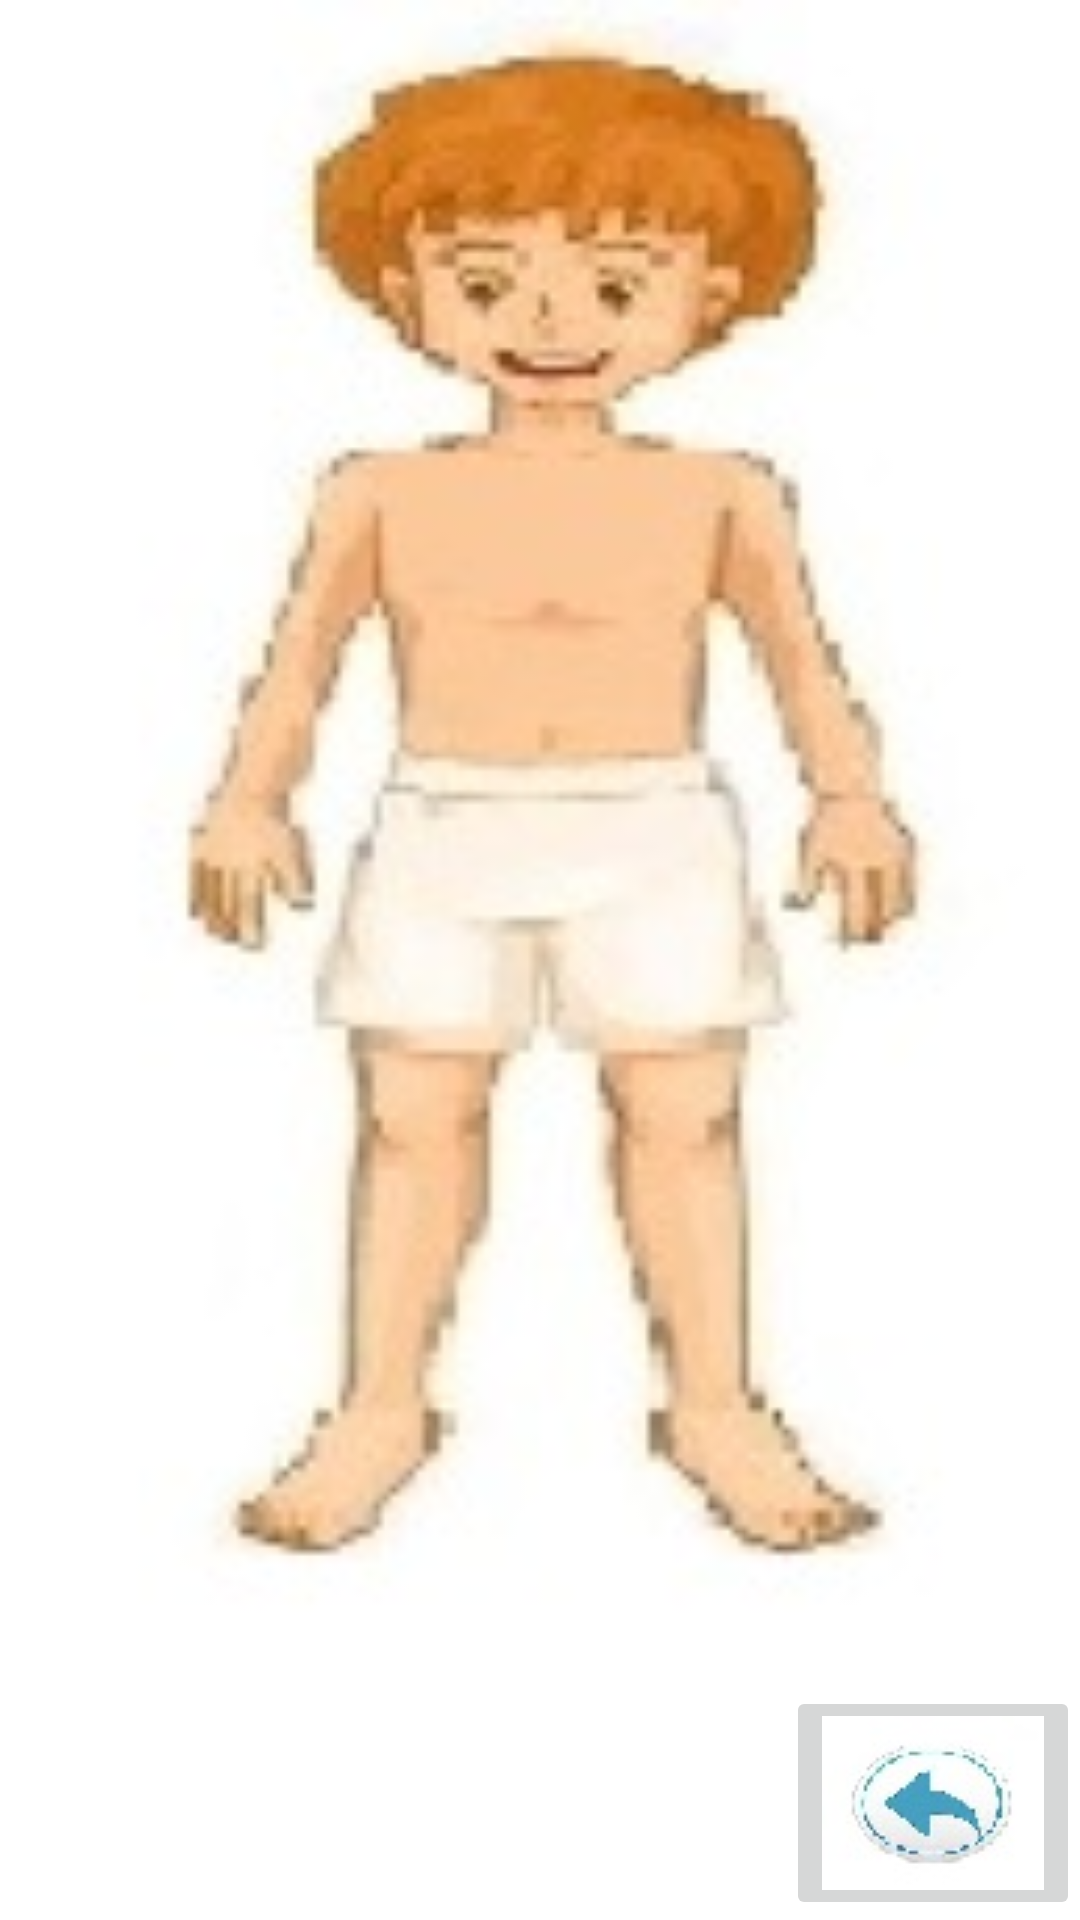

Named icons in this screenshot (1080px x 1920px) and their bounding boxes, bbox=(x1, y1, x2, y2):
retour: bbox=(798, 1704, 1068, 1902)
